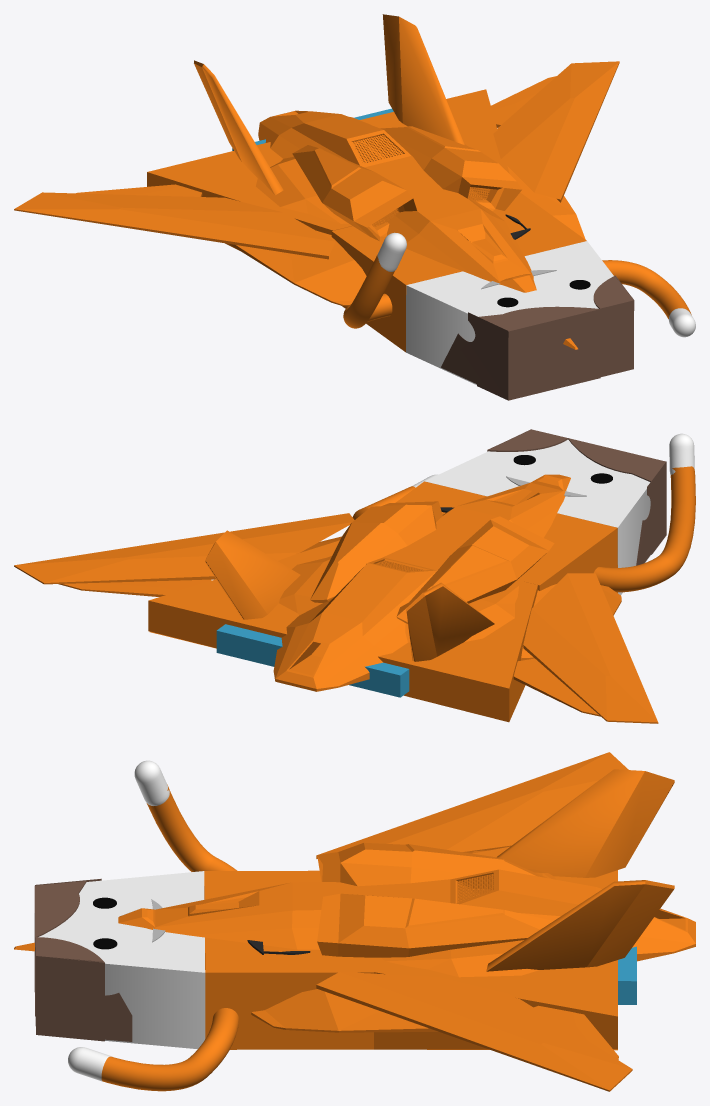
File: blockystealth.dae
3 renders of one model, top to bottom at view 1: azimuth 30°, elevation 25°; view 2: azimuth 150°, elevation 25°; view 3: azimuth 270°, elevation 25°, orthographic. The views are drawn at different scales.
Visible parts, largest first — view 1: Cube (×4), Head, Cap_1 (×3), Cube.1, Body, Extrude.2, Cap_2, Extrude (×2), Right_arm, Left_Arm, LEFT_TAIL, hand (×2) (+4 smaller); view 2: Cube (×4), Cap_1 (×4), Head, Extrude, Body, Right_arm, Cube.1, Extrude.1, LEFT_TAIL, Cap_2, RIGHT_WING, LEFT_WING (+4 smaller); view 3: Cube (×5), Head, Body, Cap_1 (×5), Cube.1, Extrude (×2), Left_Arm, RIGHT_TAIL, LEFT_TAIL, Right_arm, hand (×2), LEFT_BREAK (+3 smaller).
Boxes of the visible parts, <box> form: Cube (×4): <box>14,16,619,349</box>; Head: <box>406,241,613,384</box>; Cap_1 (×3): <box>147,89,633,331</box>; Cube.1: <box>229,141,585,306</box>; Body: <box>331,192,586,352</box>; Extrude.2: <box>477,309,600,400</box>; Cap_2: <box>441,312,507,398</box>; Extrude (×2): <box>147,172,633,376</box>; Right_arm: <box>343,255,394,328</box>; Left_Arm: <box>602,260,690,318</box>; LEFT_TAIL: <box>382,14,402,123</box>; hand (×2): <box>377,232,695,337</box>; Cube (×4): <box>14,482,658,723</box>; Cap_1 (×4): <box>149,429,665,688</box>; Head: <box>424,439,651,595</box>; Extrude: <box>148,585,537,722</box>; Body: <box>395,481,617,592</box>; Right_arm: <box>594,466,695,592</box>; Cube.1: <box>279,536,621,660</box>; Extrude.1: <box>216,631,409,697</box>; LEFT_TAIL: <box>205,542,267,619</box>; Cap_2: <box>636,461,666,565</box>; RIGHT_WING: <box>513,658,600,716</box>; LEFT_WING: <box>58,579,211,596</box>; Cube (×5): <box>14,752,695,1091</box>; Head: <box>38,871,205,1049</box>; Body: <box>204,870,373,1049</box>; Cap_1 (×5): <box>34,846,636,1041</box>; Cube.1: <box>251,850,556,1032</box>; Extrude (×2): <box>35,947,617,1049</box>; Left_Arm: <box>101,1008,238,1091</box>; RIGHT_TAIL: <box>585,771,674,877</box>; LEFT_TAIL: <box>587,880,674,967</box>; Right_arm: <box>146,787,237,871</box>; hand (×2): <box>68,760,169,1081</box>; LEFT_BREAK: <box>405,898,504,928</box>.
Bounding box in the file's own units: 668 × 163 × 569.
